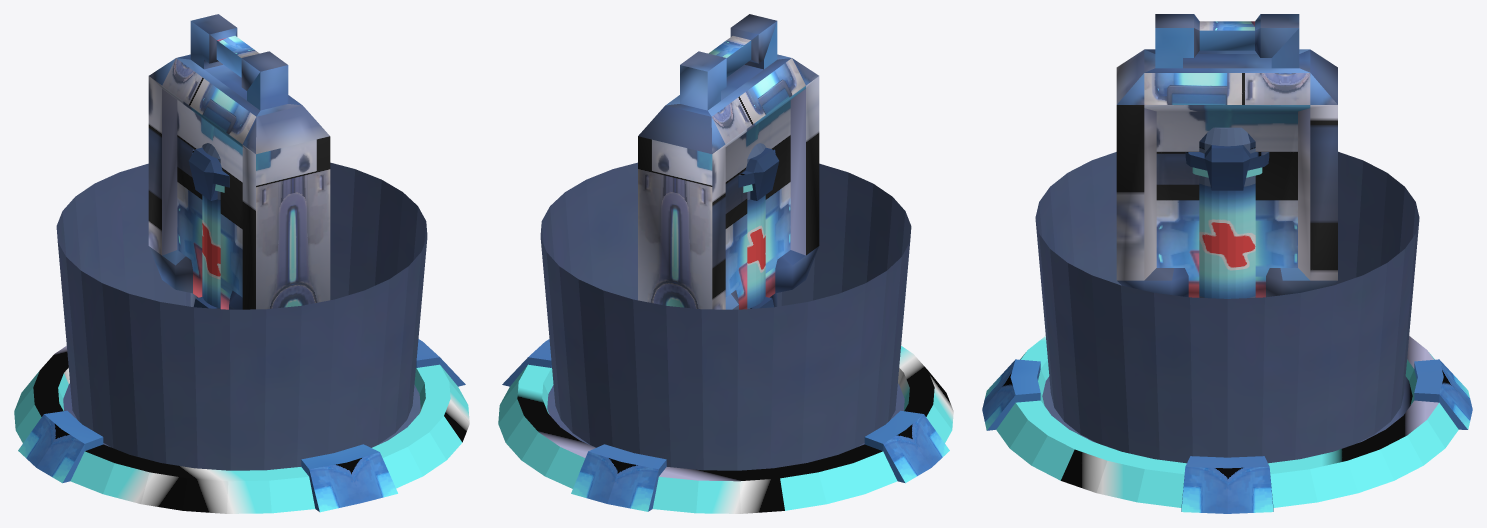
File: health_pack.obj
The picture shows the model from 3 angles, left to right: view 1: azimuth 30°, elevation 25°; view 2: azimuth 150°, elevation 25°; view 3: azimuth 270°, elevation 25°; orthographic projection. The views are drawn at different scales.
Visible parts, largest first — view 1: Glow, Large, Base, Small; view 2: Glow, Large, Base, Small; view 3: Glow, Large, Base, Small.
Boxes of the visible parts, left/top/right/bottom form: Glow: left=56, top=162, right=427, bottom=470; Large: left=148, top=14, right=330, bottom=309; Base: left=14, top=339, right=469, bottom=513; Small: left=188, top=143, right=229, bottom=308; Glow: left=540, top=162, right=911, bottom=470; Large: left=638, top=14, right=819, bottom=309; Base: left=498, top=339, right=953, bottom=513; Small: left=738, top=143, right=779, bottom=308; Glow: left=1035, top=151, right=1419, bottom=463; Large: left=1116, top=14, right=1337, bottom=297; Base: left=982, top=336, right=1472, bottom=513; Small: left=1185, top=127, right=1269, bottom=298.
Bounding box in the file's own units: 1.25 × 1.09 × 1.25.
